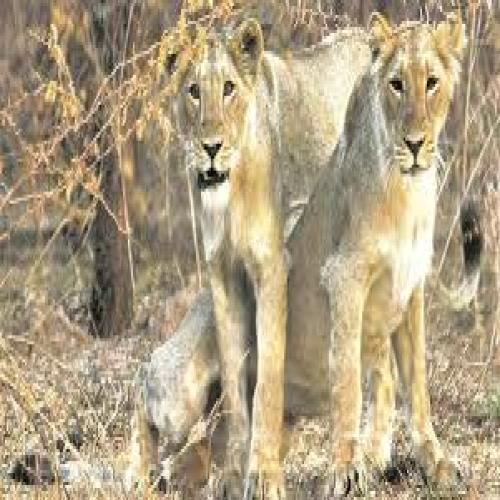lion-endangered: (287, 10, 470, 494), (161, 27, 297, 484)
